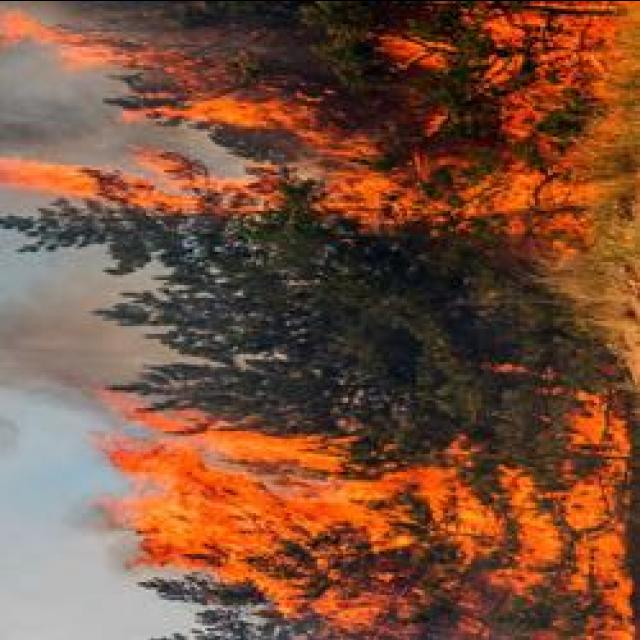fire: (166, 449, 276, 555), (129, 494, 244, 566), (280, 479, 356, 525), (232, 431, 322, 466), (510, 497, 555, 557), (506, 174, 578, 210), (554, 16, 612, 50), (208, 95, 274, 124), (341, 174, 386, 208), (450, 500, 496, 533), (317, 600, 382, 619), (388, 466, 448, 486), (362, 516, 390, 540)
smoke: (0, 301, 83, 408), (0, 6, 104, 70), (0, 98, 96, 156)
